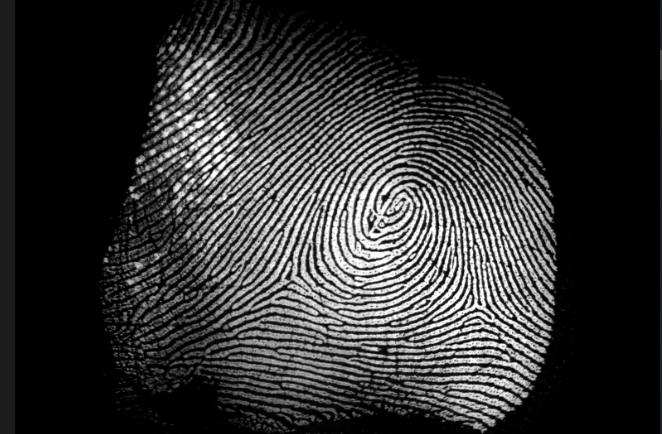deltas: (260, 252, 314, 302), (452, 283, 499, 329)
nucleo: (366, 176, 415, 225)
